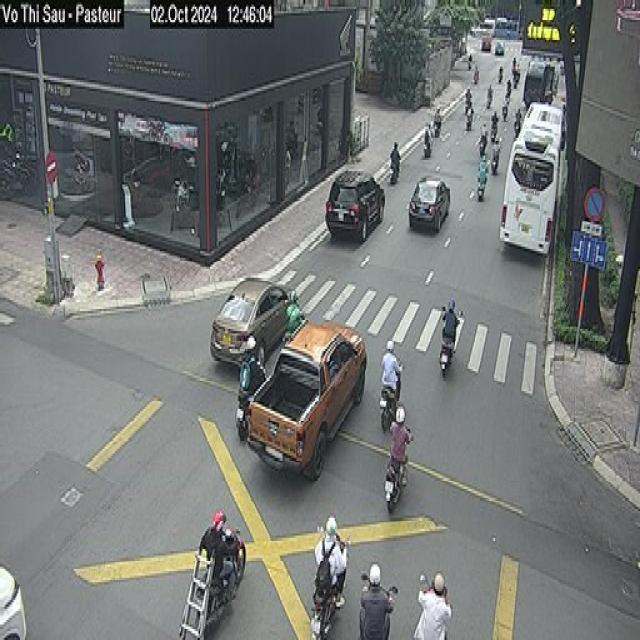bus: (499, 100, 565, 256)
car: (209, 275, 290, 369), (325, 167, 385, 242), (0, 561, 45, 640), (408, 173, 450, 231)
container-truck: (244, 316, 366, 480)
motorcycle: (174, 562, 252, 638), (370, 430, 412, 515), (304, 550, 338, 634), (383, 434, 412, 514), (367, 382, 414, 429), (354, 586, 394, 638), (413, 582, 446, 640), (226, 378, 257, 428), (434, 328, 458, 388), (283, 319, 306, 349), (470, 145, 491, 175), (385, 160, 408, 185), (478, 178, 493, 214), (428, 125, 454, 143), (423, 140, 443, 162), (489, 149, 501, 169), (476, 130, 486, 149)
person: (198, 509, 240, 609), (314, 516, 348, 606), (236, 333, 265, 429), (359, 562, 395, 638), (412, 571, 452, 638), (388, 404, 412, 486), (380, 338, 402, 413), (441, 298, 459, 353), (284, 289, 301, 335), (388, 132, 400, 169), (476, 156, 491, 184), (490, 130, 505, 158), (435, 97, 444, 133), (422, 114, 430, 150), (480, 115, 486, 143)
truck: (524, 60, 564, 113)
